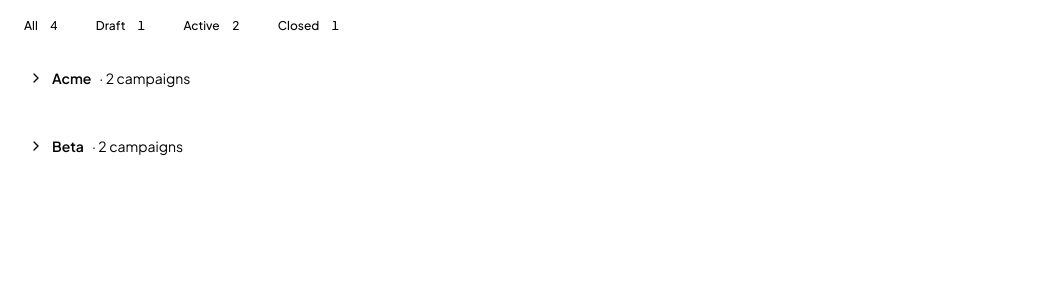
Test case: CampaignsListWithFilter › clicking a status pill filters each company's expanded rows
The image size is (1048, 304).
Click the button with test id "campaign-filter-pill-active" at (215, 26), box [171,12,258,40]
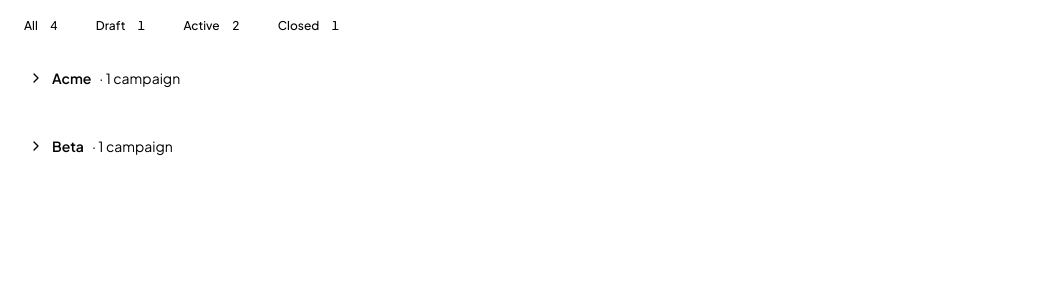
Click the button "Acme · 1 campaign" at (72, 78), box [12,56,1036,100]
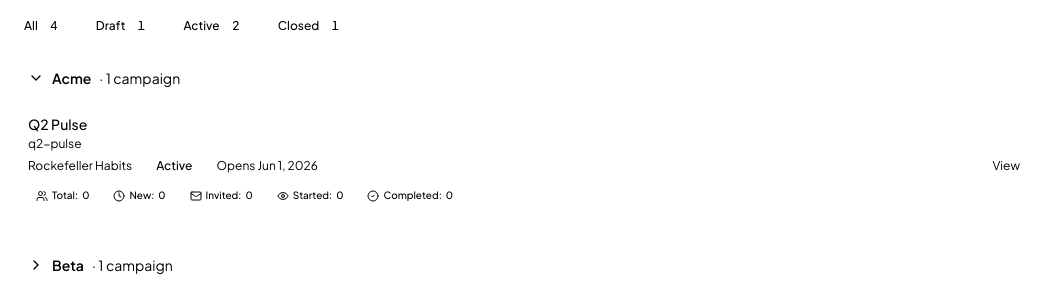
Result: the element with test id "campaign-row-c2" is shown at [12,100,1036,219]
Click the button "Beta · 1 campaign" at (68, 265), box [12,243,1036,287]
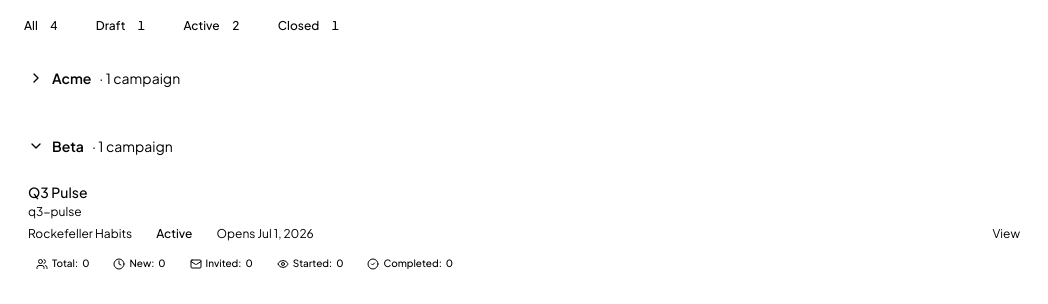
Result: the element with test id "campaign-row-c2" is gone
Result: the element with test id "campaign-row-c3" is shown at [12,168,1036,287]
